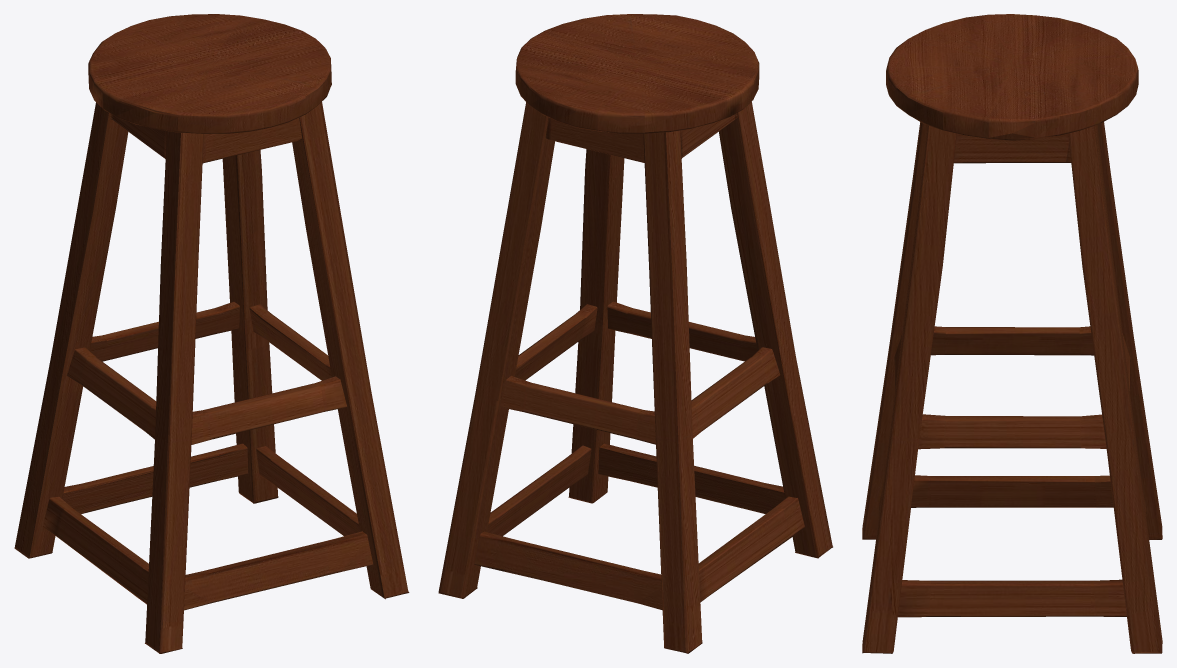
File: bar-stool.glb
The picture shows the model from 3 angles, left to right: view 1: azimuth 30°, elevation 25°; view 2: azimuth 150°, elevation 25°; view 3: azimuth 270°, elevation 25°; orthographic projection. The views are drawn at different scales.
Size of the model in its own units: 0.3878 by 0.75 by 0.3901.
Materials: 1 (1 with a texture image).
